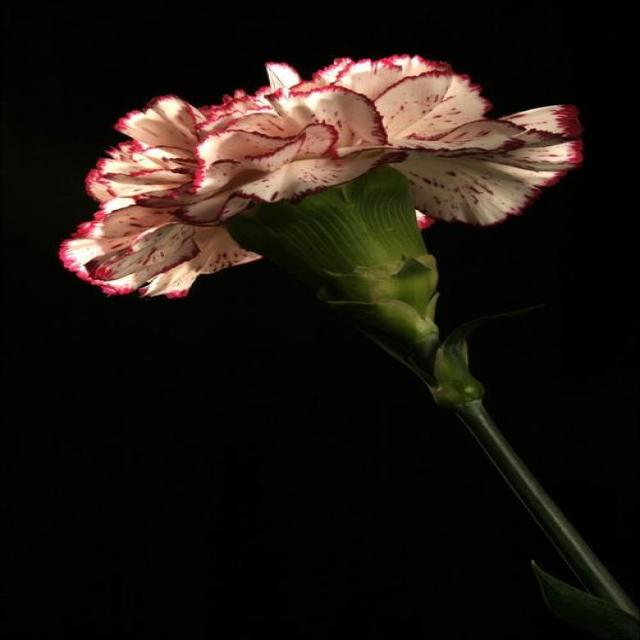carnation: (53, 38, 596, 407)
